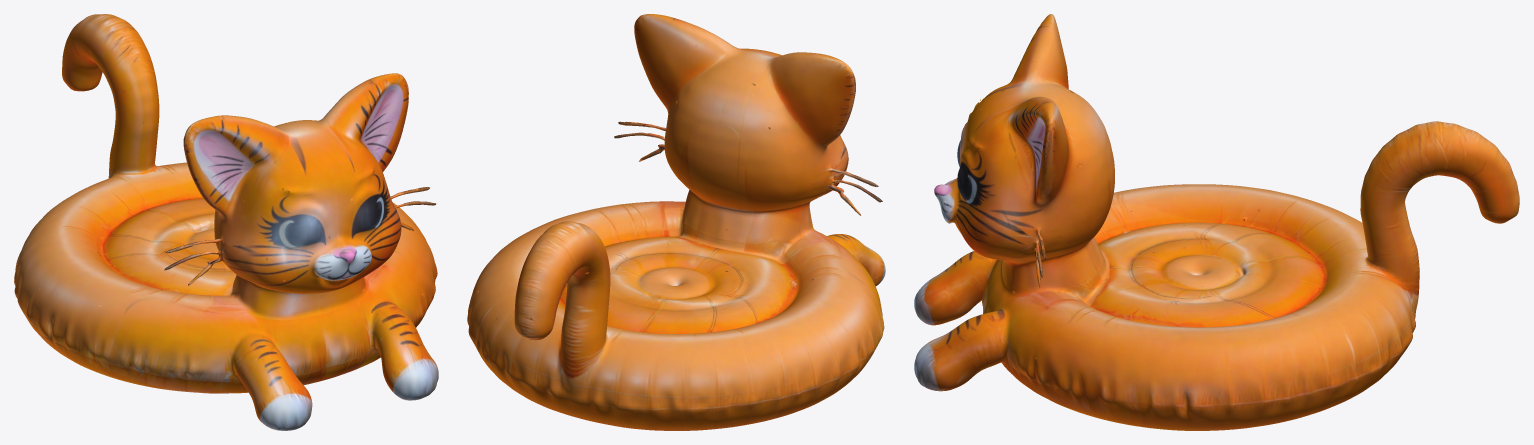
File: Float3.fbx
3 views of the same model, side by side, from view 1: azimuth 30°, elevation 25°; view 2: azimuth 150°, elevation 25°; view 3: azimuth 270°, elevation 25° (orthographic). The views are drawn at different scales.
Visible parts, largest first — view 1: float_Orange; view 2: float_Orange; view 3: float_Orange.
Boxes of the visible parts, x1,y1,x2,y2 form: float_Orange: (14,14,438,430); float_Orange: (467,14,885,430); float_Orange: (914,14,1519,430).
Bounding box in the file's own units: 148 × 106 × 200.
1 material, 1 textured.
